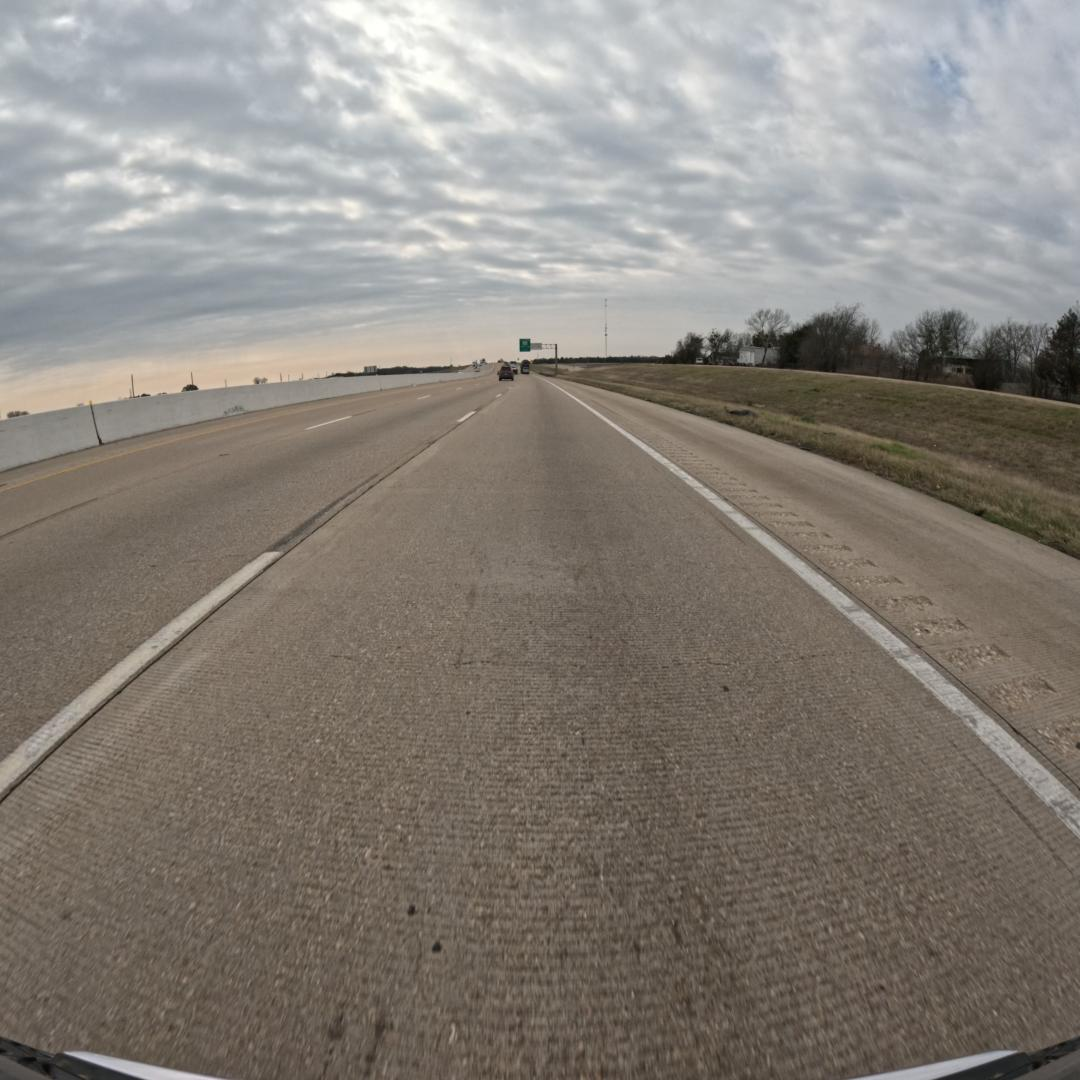lane0: (0, 376, 1080, 1077)
lane1: (0, 377, 510, 799)
